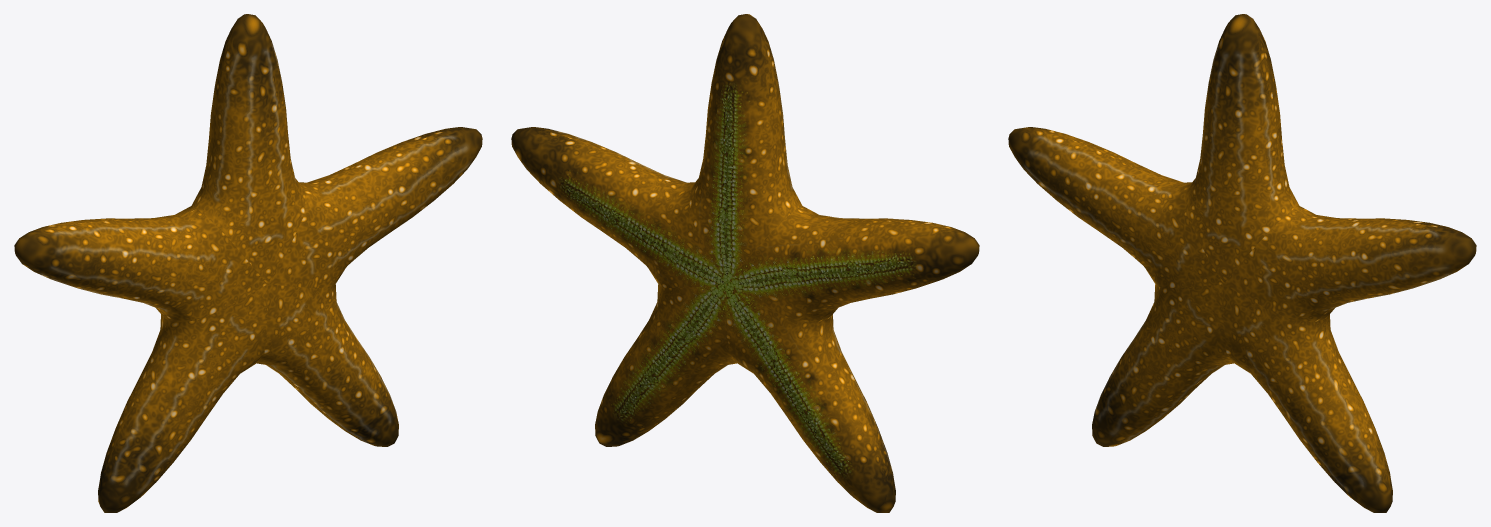
Rendered from starfish.obj.
3 renders of one model, left to right at view 1: azimuth 30°, elevation 25°; view 2: azimuth 150°, elevation 25°; view 3: azimuth 330°, elevation 25°, orthographic.
Parts seen in each view (by area): view 1: Default; view 2: Default; view 3: Default.
Boxes of the visible parts, x1,y1,x2,y2 form: Default: (14,14,482,512); Default: (511,14,979,512); Default: (1008,14,1476,512).
Size of the model in its own units: 7.08 by 6.76 by 1.
Materials: 1 (1 with a texture image).
